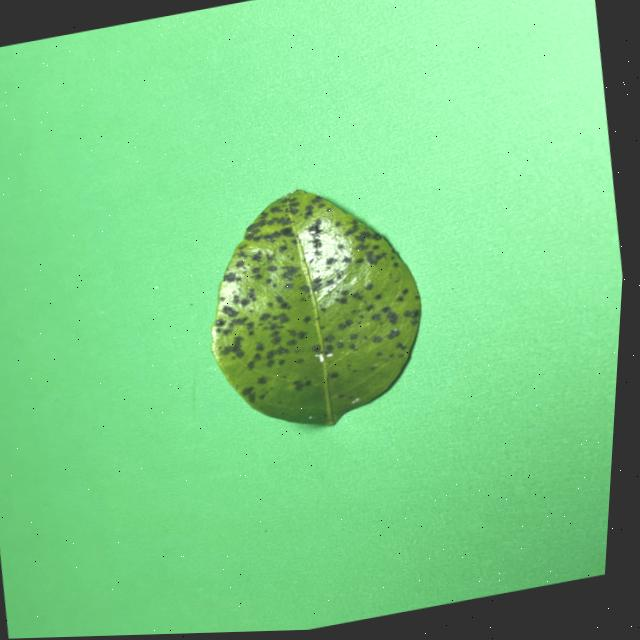sooty_mold: (212, 189, 421, 424)
